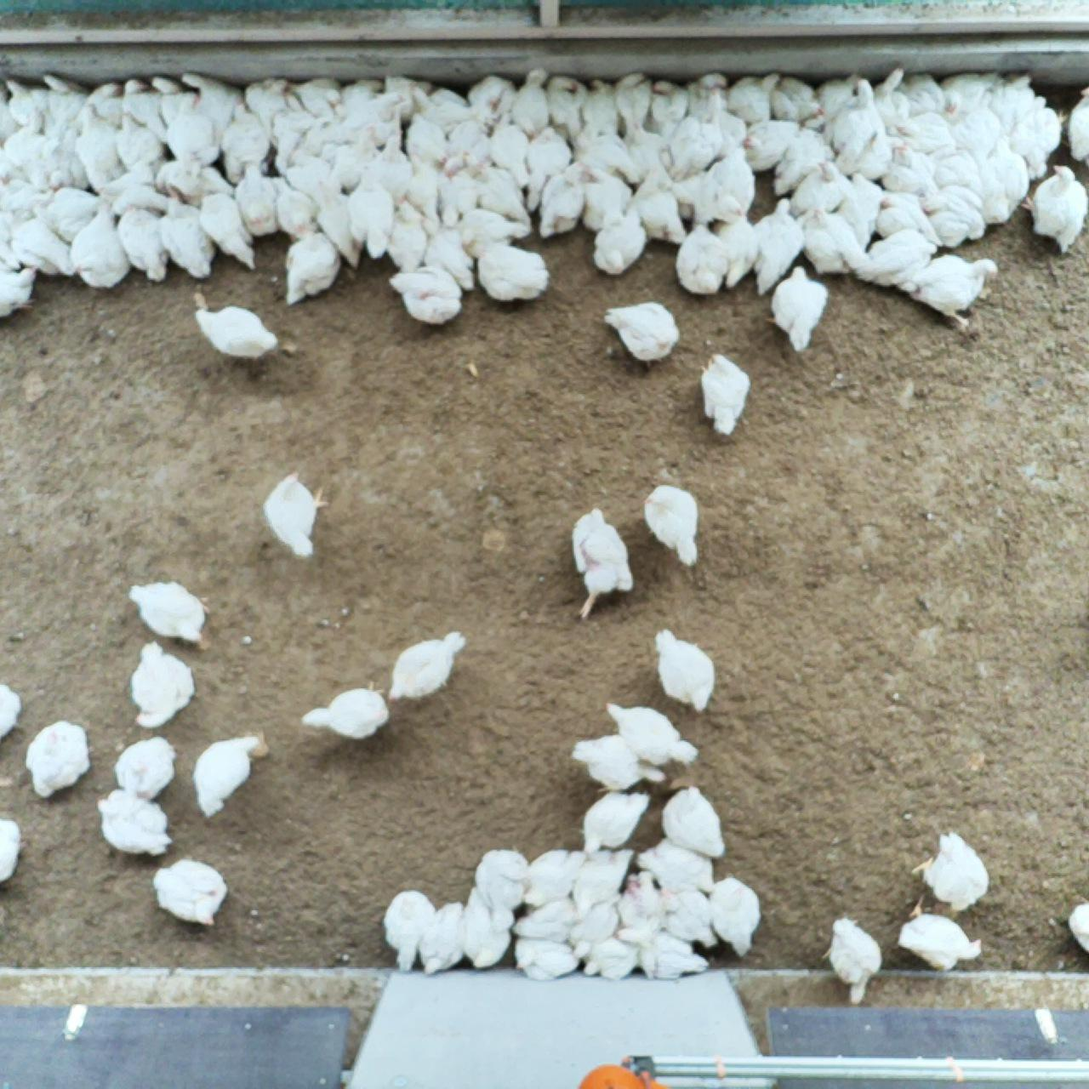chicken: (568, 503, 638, 620), (902, 254, 1008, 328), (895, 892, 988, 975), (819, 913, 889, 1014), (911, 829, 992, 915), (187, 730, 263, 821), (258, 468, 331, 562), (124, 639, 200, 727), (745, 190, 805, 301), (604, 701, 702, 768), (123, 576, 211, 650), (650, 623, 718, 717), (298, 676, 392, 743), (386, 628, 471, 702), (662, 85, 727, 181), (762, 264, 831, 354), (1021, 163, 1089, 253), (571, 732, 670, 793), (94, 787, 175, 861), (151, 857, 233, 930), (26, 718, 94, 804), (973, 132, 1032, 231), (68, 198, 130, 291), (659, 781, 728, 862), (600, 300, 682, 368), (851, 228, 940, 289), (795, 201, 868, 275), (1007, 91, 1067, 181), (460, 149, 531, 225), (385, 260, 464, 328), (380, 887, 441, 974), (653, 873, 720, 952), (157, 193, 217, 280), (73, 100, 129, 193), (643, 480, 704, 565), (624, 167, 687, 249), (191, 304, 280, 362), (473, 239, 551, 304), (459, 880, 514, 972), (581, 790, 653, 860), (196, 190, 258, 271), (633, 836, 718, 895), (696, 351, 754, 437), (475, 845, 531, 934), (769, 121, 837, 194), (919, 181, 990, 250), (179, 71, 244, 146), (96, 152, 172, 216), (220, 101, 274, 191), (521, 846, 591, 915), (114, 732, 181, 804), (521, 123, 575, 212), (834, 167, 890, 252), (616, 867, 674, 949), (315, 178, 366, 271), (281, 225, 341, 304), (114, 197, 169, 283), (348, 163, 396, 261), (418, 212, 476, 293), (784, 155, 854, 222), (571, 847, 636, 919), (153, 150, 236, 206), (568, 124, 641, 187), (4, 215, 77, 278), (709, 873, 763, 957), (453, 206, 535, 261), (827, 76, 885, 153), (418, 898, 475, 976), (164, 89, 221, 166), (588, 204, 648, 277), (33, 185, 104, 245), (871, 188, 943, 247), (707, 138, 755, 224), (327, 125, 385, 194), (674, 224, 728, 298), (580, 163, 636, 234), (483, 110, 532, 191), (2, 121, 57, 193), (385, 191, 432, 275), (436, 157, 492, 227), (726, 68, 789, 130), (335, 91, 407, 145), (233, 159, 282, 238), (367, 128, 414, 210), (739, 114, 801, 176), (713, 213, 760, 294), (566, 892, 621, 961), (955, 86, 1004, 163), (635, 934, 712, 982), (832, 124, 898, 180), (919, 141, 987, 195), (871, 65, 921, 138), (538, 162, 586, 238), (510, 892, 580, 944), (40, 126, 93, 194), (615, 117, 668, 184), (887, 109, 962, 156), (271, 175, 322, 243), (114, 108, 166, 174), (766, 73, 825, 131), (989, 70, 1045, 131), (939, 69, 1001, 124), (510, 935, 584, 981), (509, 67, 554, 141), (880, 142, 938, 199), (399, 149, 447, 217), (545, 72, 590, 144), (270, 108, 316, 178), (669, 165, 719, 228), (441, 114, 491, 176), (410, 81, 467, 134), (283, 69, 341, 120), (470, 70, 518, 131), (379, 73, 436, 124), (581, 76, 626, 140), (243, 74, 291, 133), (147, 73, 199, 127), (284, 145, 335, 200), (612, 67, 652, 137), (289, 113, 346, 162), (890, 73, 948, 121), (647, 77, 691, 140), (682, 71, 728, 131), (815, 69, 863, 126), (0, 175, 55, 223), (326, 77, 387, 120), (583, 937, 642, 981), (41, 72, 91, 123), (404, 112, 446, 170), (3, 76, 48, 125), (708, 105, 748, 160), (82, 80, 126, 130), (0, 264, 39, 319), (119, 76, 160, 126), (1066, 85, 1089, 162), (0, 208, 28, 271), (0, 817, 23, 887), (0, 679, 24, 740), (0, 83, 23, 145), (1066, 895, 1089, 955)
